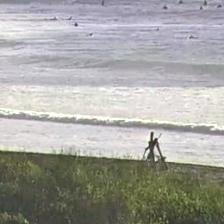surfer: (43, 16, 57, 22), (61, 16, 72, 21), (85, 32, 94, 37), (161, 4, 168, 10), (177, 0, 184, 6), (188, 34, 194, 40), (202, 0, 208, 6), (153, 27, 160, 32), (216, 3, 223, 8), (101, 1, 106, 7), (73, 22, 79, 26), (199, 6, 203, 11), (206, 0, 214, 2)
